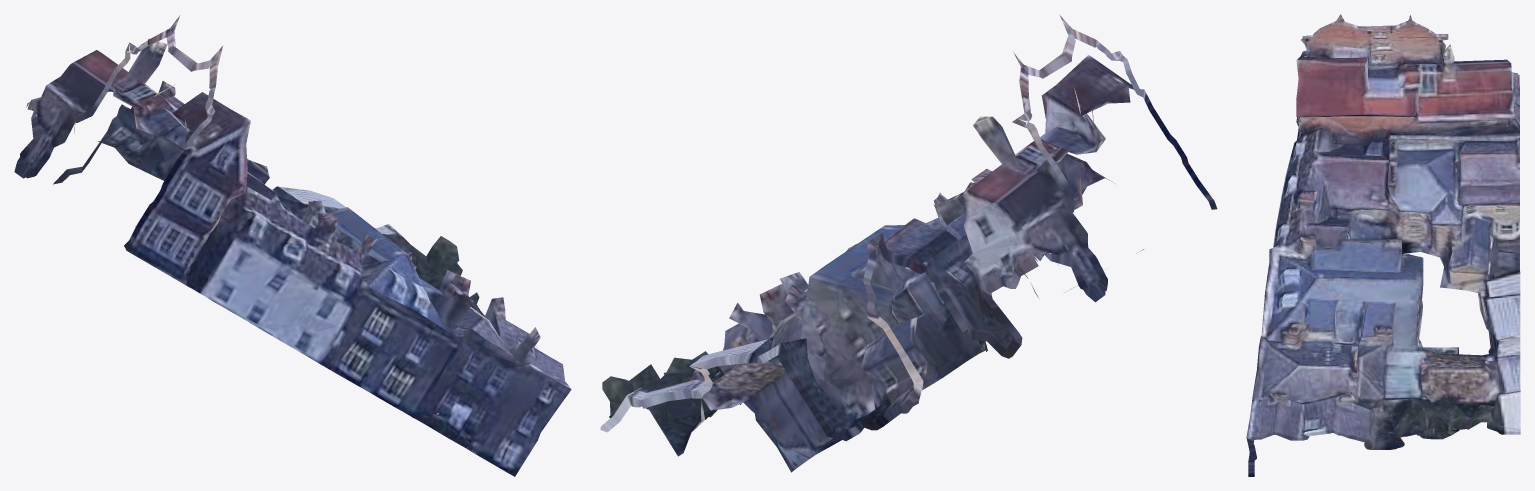
File: AJVsH2x0H-J7BFE230hdo6e2jhcAp0SC289cObEaOfVzLJKSH283ywq_wVtrZHpnhnJNnTa1lpSN81AVNCIGCSLwnKvRENR1yDNM_ZfYC7919P29w_NzPoGTORNjdi-_fw53zh66Mxo6qc6T4NN8oG8-_M5EQws51Oq1XUQu0T8la1HkRywz0Kt0LQU409uRtg.glb
3 renders of one model, left to right at view 1: azimuth 30°, elevation 25°; view 2: azimuth 150°, elevation 25°; view 3: azimuth 270°, elevation 25°, orthographic. The views are drawn at different scales.
Bounding box in the file's own units: 37.22 × 36.52 × 24.62.
Materials: 1 (1 with a texture image).
